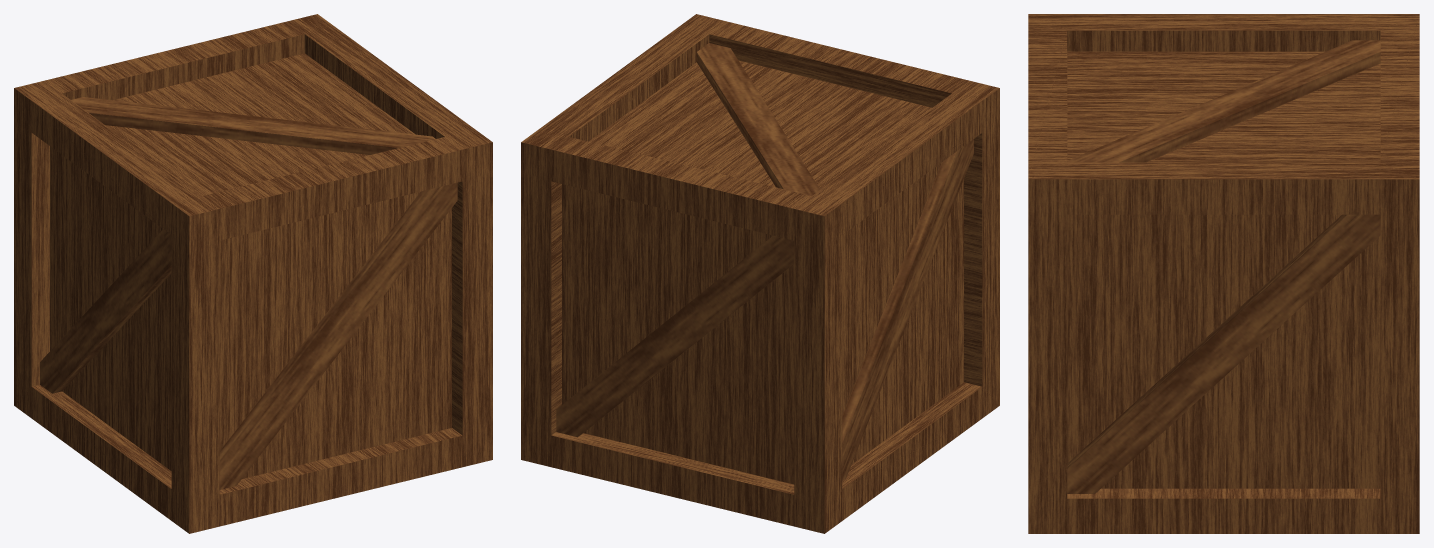
File: WoodenCrate.fbx
3 views of the same model, side by side, from view 1: azimuth 30°, elevation 25°; view 2: azimuth 150°, elevation 25°; view 3: azimuth 270°, elevation 25° (orthographic). The views are drawn at different scales.
Parts seen in each view (by area): view 1: WoodenCrate; view 2: WoodenCrate; view 3: WoodenCrate.
Boxes of the visible parts, <box> form: WoodenCrate: <box>14,14,492,533</box>; WoodenCrate: <box>521,14,999,533</box>; WoodenCrate: <box>1028,14,1419,533</box>.
Bounding box in the file's own units: 100 × 100 × 100.
Materials: 1 (1 with a texture image).
